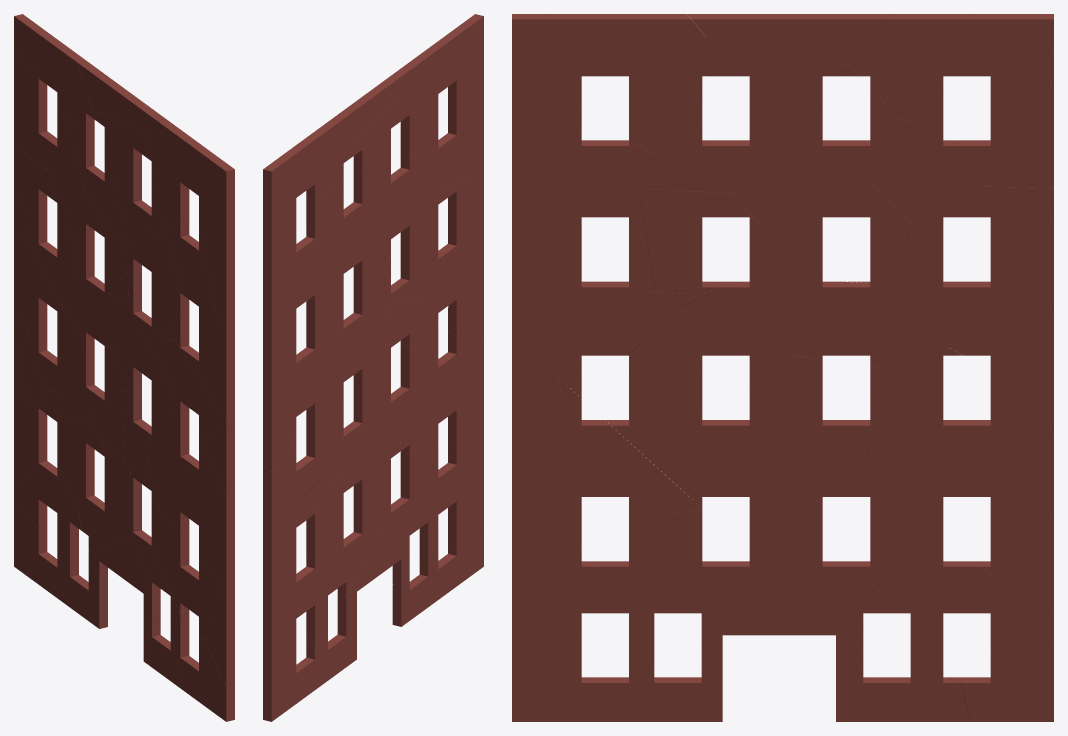
Rendered from wall_04Cx.fbx.
3 views of the same model, side by side, from view 1: azimuth 30°, elevation 25°; view 2: azimuth 150°, elevation 25°; view 3: azimuth 270°, elevation 25° (orthographic). The views are drawn at different scales.
Visible parts, largest first — view 1: wall04_C_cell.037, wall04_C_cell.001, wall04_C_cell.034, wall04_C_cell.069, wall04_C_cell.016, wall04_C_cell.046, wall04_C_cell.059, wall04_C_cell.058, wall04_C_cell.042, wall04_C_cell.056, wall04_C_cell.036, wall04_C_cell.054 (+39 smaller); view 2: wall04_C_cell.037, wall04_C_cell.069, wall04_C_cell.046, wall04_C_cell.059, wall04_C_cell.058, wall04_C_cell.034, wall04_C_cell.016, wall04_C_cell.056, wall04_C_cell.042, wall04_C_cell.054, wall04_C_cell.001, wall04_C_cell.036 (+43 smaller); view 3: wall04_C_cell.037, wall04_C_cell.034, wall04_C_cell.046, wall04_C_cell.016, wall04_C_cell.056, wall04_C_cell.007, wall04_C_cell.001, wall04_C_cell.058, wall04_C_cell.069, wall04_C_cell.045, wall04_C_cell.042, wall04_C_cell.036 (+38 smaller).
Boxes of the visible parts, x1=… form: wall04_C_cell.037: x1=150, y1=118, x2=221, y2=230; wall04_C_cell.001: x1=199, y1=162, x2=234, y2=333; wall04_C_cell.034: x1=174, y1=279, x2=234, y2=424; wall04_C_cell.069: x1=77, y1=442, x2=141, y2=550; wall04_C_cell.016: x1=191, y1=446, x2=234, y2=587; wall04_C_cell.046: x1=97, y1=112, x2=154, y2=245; wall04_C_cell.059: x1=127, y1=227, x2=179, y2=339; wall04_C_cell.058: x1=14, y1=464, x2=82, y2=553; wall04_C_cell.042: x1=67, y1=190, x2=128, y2=299; wall04_C_cell.056: x1=27, y1=183, x2=79, y2=310; wall04_C_cell.036: x1=82, y1=335, x2=123, y2=459; wall04_C_cell.054: x1=14, y1=62, x2=57, y2=169; wall04_C_cell.037: x1=400, y1=23, x2=469, y2=160; wall04_C_cell.069: x1=335, y1=455, x2=390, y2=596; wall04_C_cell.046: x1=353, y1=91, x2=412, y2=231; wall04_C_cell.059: x1=385, y1=171, x2=437, y2=290; wall04_C_cell.058: x1=263, y1=555, x2=340, y2=657; wall04_C_cell.034: x1=432, y1=175, x2=483, y2=263; wall04_C_cell.016: x1=448, y1=321, x2=483, y2=444; wall04_C_cell.056: x1=285, y1=286, x2=337, y2=393; wall04_C_cell.042: x1=325, y1=241, x2=385, y2=334; wall04_C_cell.054: x1=263, y1=192, x2=310, y2=301; wall04_C_cell.001: x1=448, y1=17, x2=483, y2=178; wall04_C_cell.036: x1=339, y1=356, x2=381, y2=468; wall04_C_cell.037: x1=539, y1=14, x2=709, y2=154; wall04_C_cell.034: x1=512, y1=193, x2=654, y2=345; wall04_C_cell.046: x1=697, y1=38, x2=846, y2=204; wall04_C_cell.016: x1=512, y1=373, x2=595, y2=553; wall04_C_cell.056: x1=886, y1=199, x2=1019, y2=347; wall04_C_cell.007: x1=753, y1=275, x2=916, y2=367; wall04_C_cell.001: x1=512, y1=20, x2=581, y2=222; wall04_C_cell.058: x1=883, y1=552, x2=1053, y2=657; wall04_C_cell.069: x1=749, y1=481, x2=884, y2=612; wall04_C_cell.045: x1=847, y1=14, x2=1005, y2=97; wall04_C_cell.042: x1=759, y1=178, x2=912, y2=284; wall04_C_cell.036: x1=777, y1=355, x2=883, y2=483.
Bounding box in the file's own units: 20.22 × 1222 × 854.
